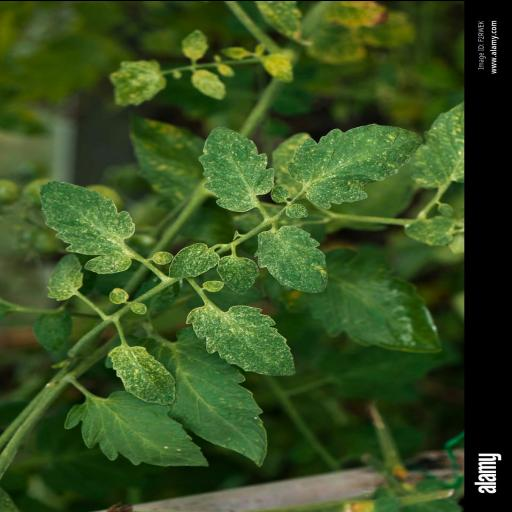disease_tomato: (270, 120, 426, 208), (36, 180, 140, 274), (184, 304, 300, 376), (196, 124, 274, 212), (252, 222, 332, 294), (104, 340, 180, 406), (166, 242, 220, 280), (216, 254, 258, 294)
